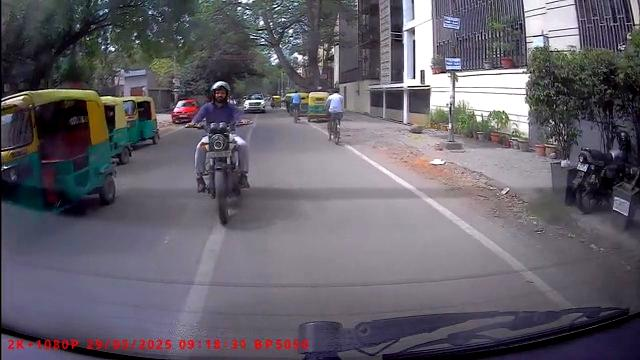motorcycle_with_helmet: (182, 77, 253, 226)
